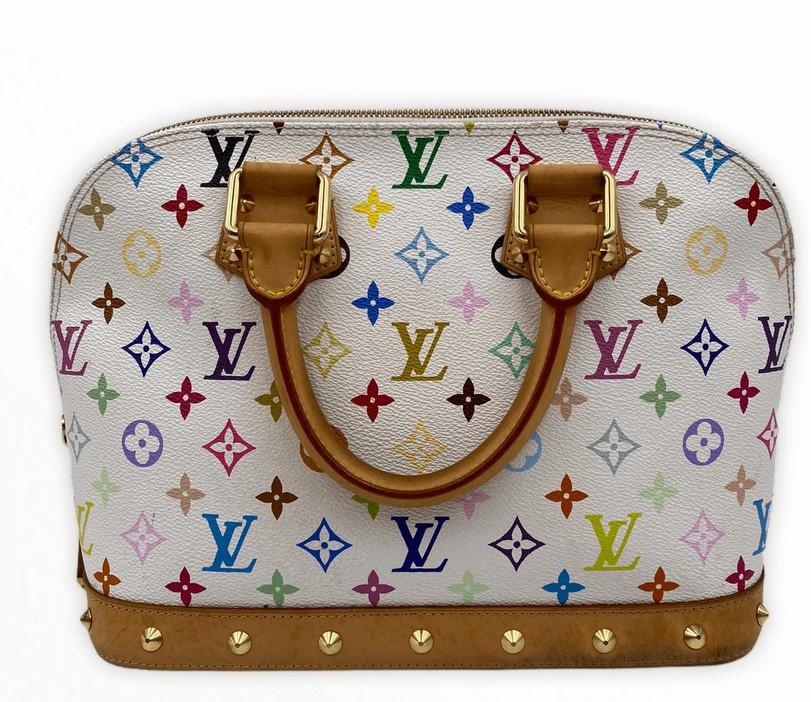LOUIS-VUITTON: (45, 109, 798, 607)
